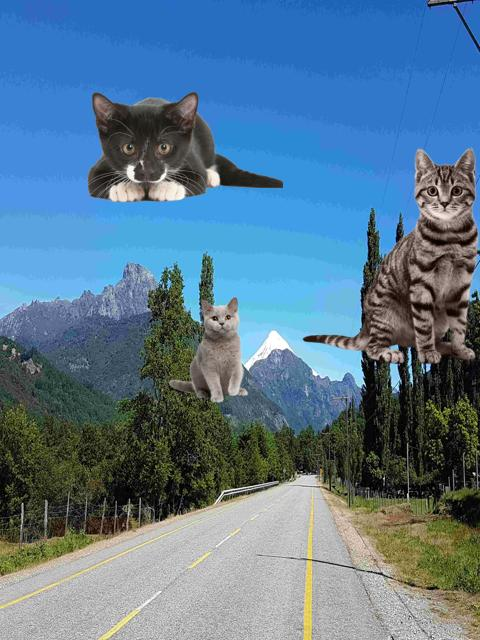cat: (304, 148, 478, 364), (57, 85, 281, 209), (166, 297, 261, 401)
